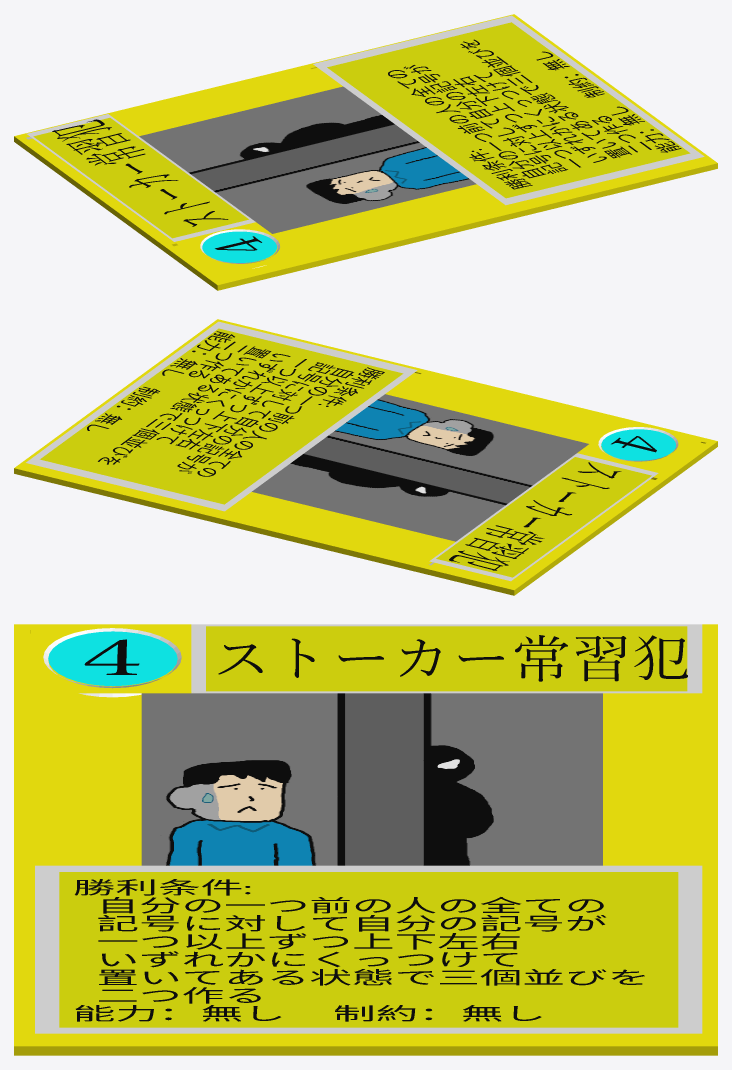
Rendered from ストーカー常習犯黄.fbx.
3 renders of one model, top to bottom at view 1: azimuth 30°, elevation 25°; view 2: azimuth 150°, elevation 25°; view 3: azimuth 270°, elevation 25°, orthographic. The views are drawn at different scales.
Visible parts, largest first — view 1: 説明欄, 平面.001, カード本体.001, 名前欄, 説明文, 円, 平面, 名前; view 2: 説明欄, 平面.001, カード本体.001, 名前欄, 説明文, 円, 平面, 名前; view 3: 説明欄, 平面.001, カード本体.001, 名前欄, 説明文, 平面, 円, 名前, コスト蘭.
Boxes of the visible parts, left/top/right/bottom form: 説明欄: left=313, top=15, right=704, bottom=205; 平面.001: left=139, top=86, right=476, bottom=233; カード本体.001: left=14, top=14, right=717, bottom=290; 名前欄: left=27, top=114, right=255, bottom=241; 説明文: left=388, top=39, right=681, bottom=189; 円: left=202, top=231, right=276, bottom=262; 平面: left=174, top=222, right=302, bottom=275; 名前: left=52, top=119, right=228, bottom=226; 説明欄: left=26, top=321, right=417, bottom=511; 平面.001: left=252, top=394, right=588, bottom=541; カード本体.001: left=14, top=319, right=717, bottom=595; 名前欄: left=429, top=453, right=658, bottom=581; 説明文: left=87, top=331, right=384, bottom=476; 円: left=601, top=429, right=675, bottom=460; 平面: left=577, top=419, right=704, bottom=472; 名前: left=449, top=462, right=621, bottom=570; 説明欄: left=35, top=865, right=702, bottom=1033; 平面.001: left=141, top=693, right=602, bottom=865; カード本体.001: left=14, top=624, right=717, bottom=1055; 名前欄: left=191, top=624, right=702, bottom=693; 説明文: left=75, top=879, right=644, bottom=1021; 平面: left=30, top=624, right=191, bottom=693; 円: left=48, top=631, right=177, bottom=686; 名前: left=218, top=635, right=687, bottom=681; コスト蘭: left=43, top=628, right=181, bottom=697.
Bounding box in the file's own units: 281 × 6.07 × 198.
